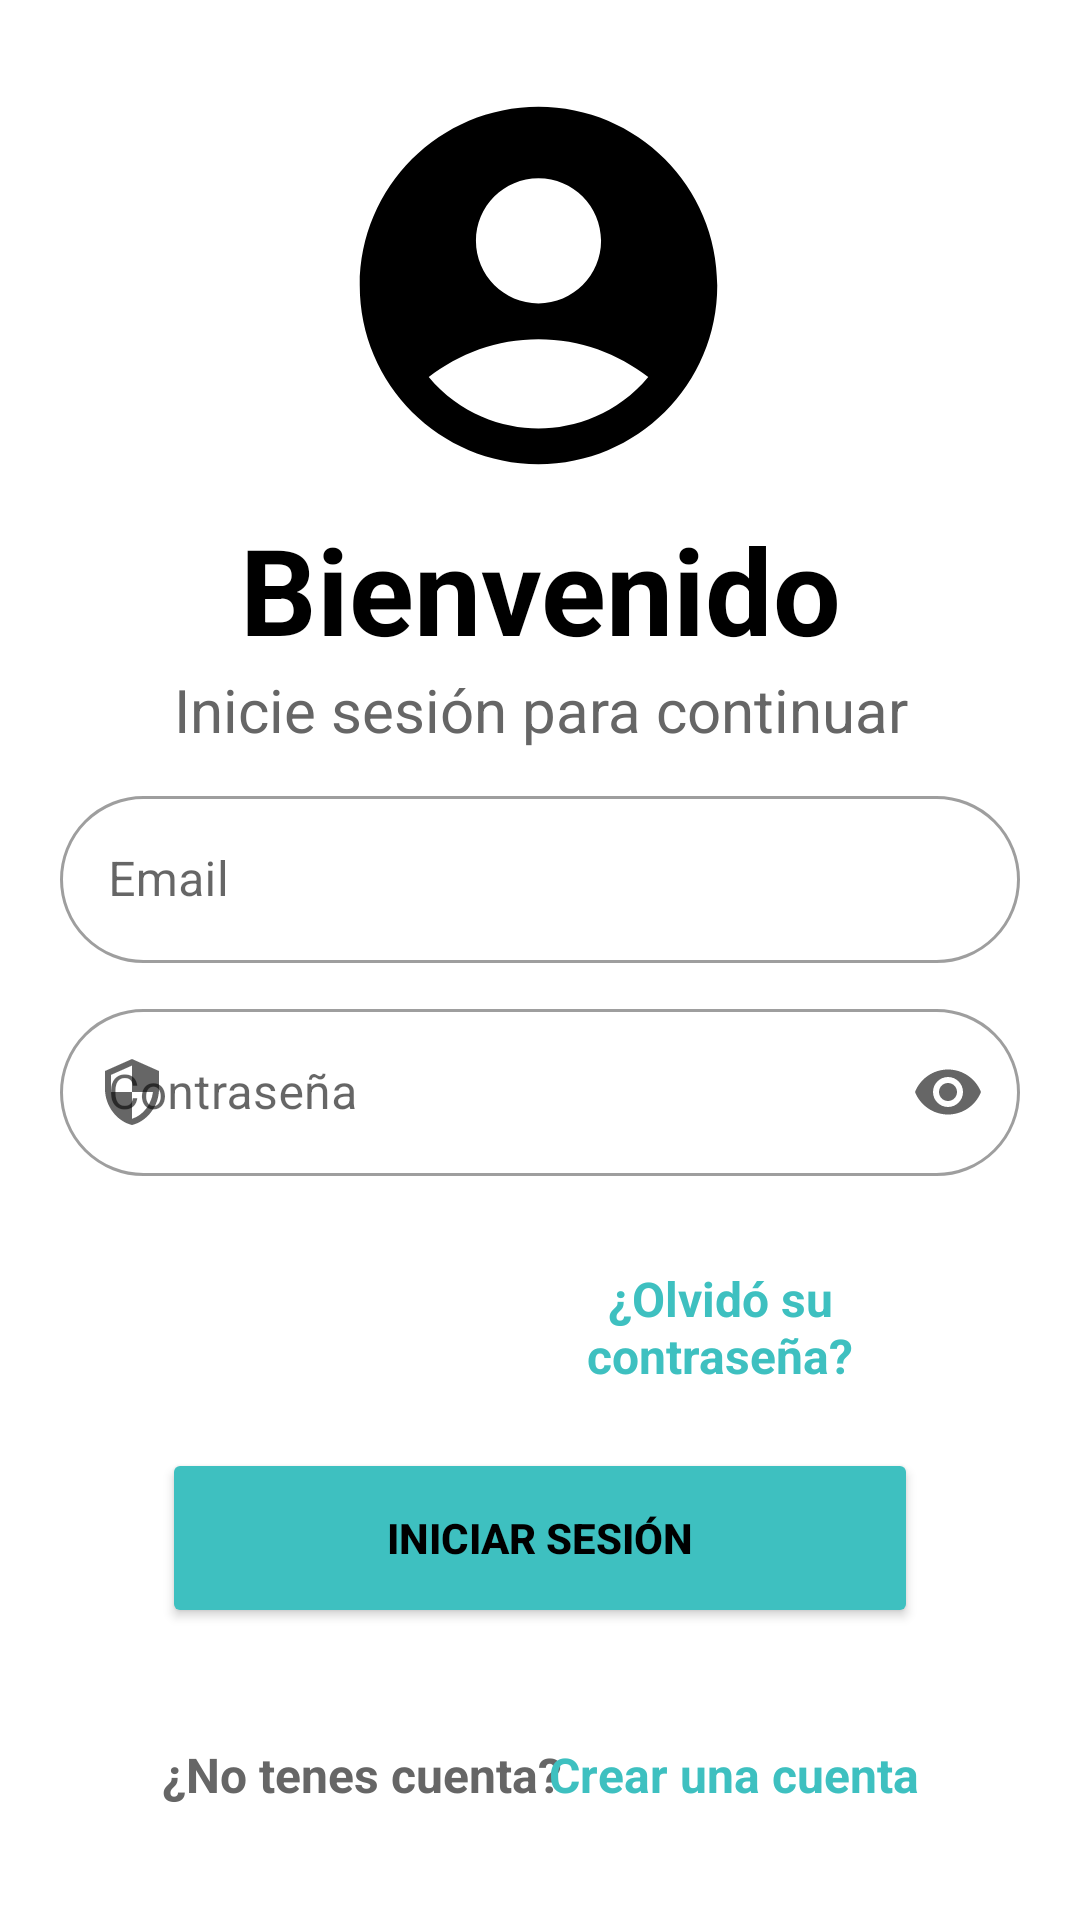

Named icons in this screenshot (1080x1920) and their bounding boxes, [x1,y1,x2,y2]:
account circle: [359,106,718,465]
